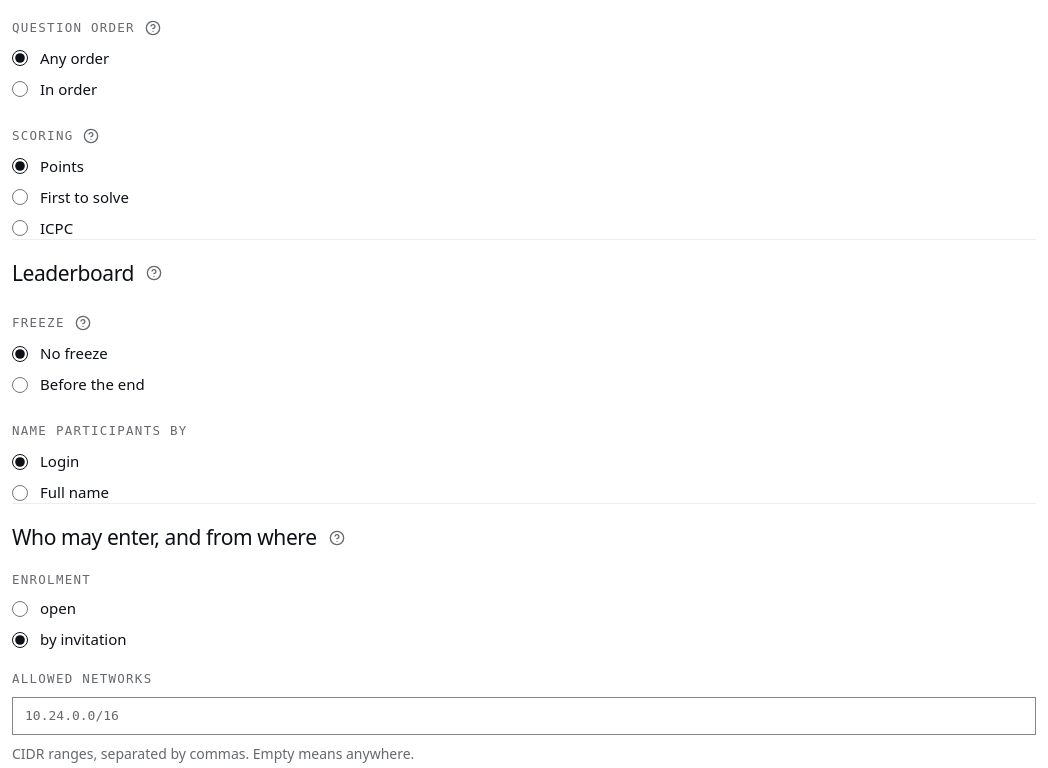
ContestPanel, the leaderboard › asks for an amount only once a freeze is chosen
(page scrolled)
Expected: the radio button labelled "No freeze" is checked, [12,346,28,362]
Expected: the field labelled "How long before the end" is not shown
Click the radio button labelled "Before the end": (20, 384) [12,376,28,392]
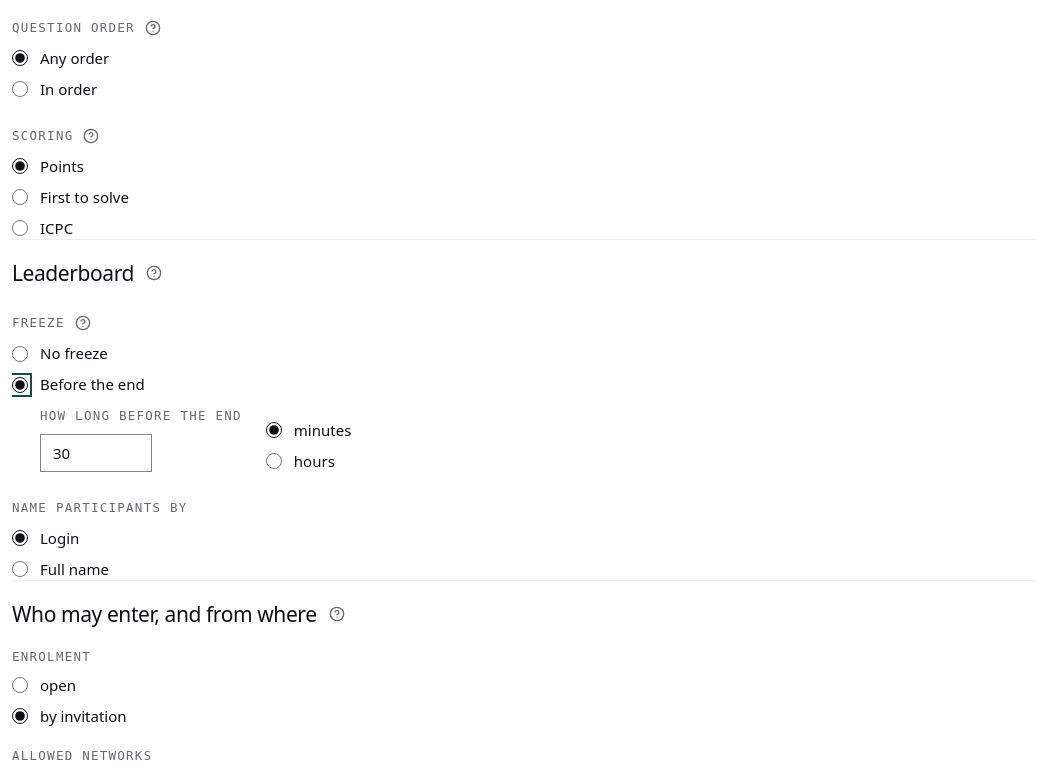
Expected: the number field labelled "How long before the end" holds "30", [40,434,152,472]
